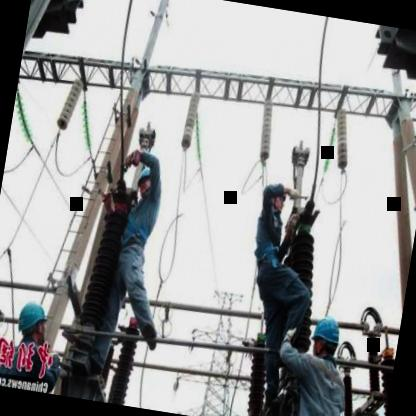helmet: (307, 312, 346, 362), (14, 297, 51, 346), (132, 162, 158, 198)
